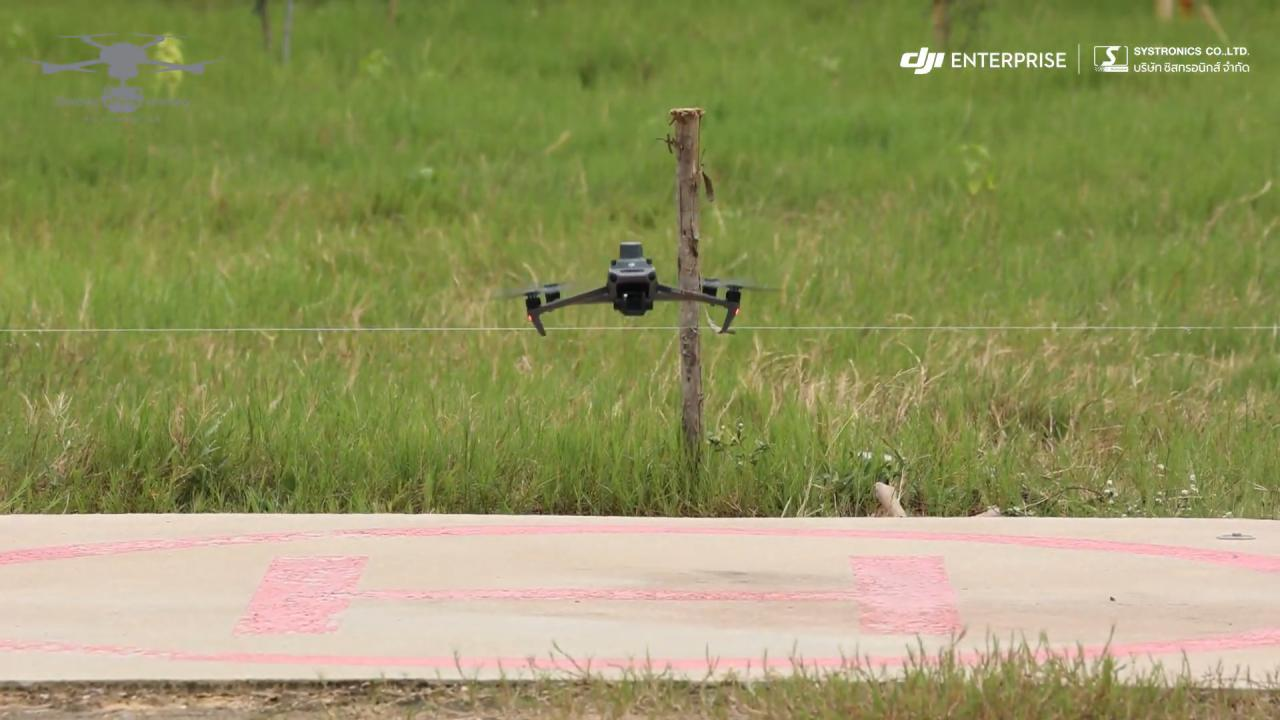Drone: (490, 234, 788, 344)
